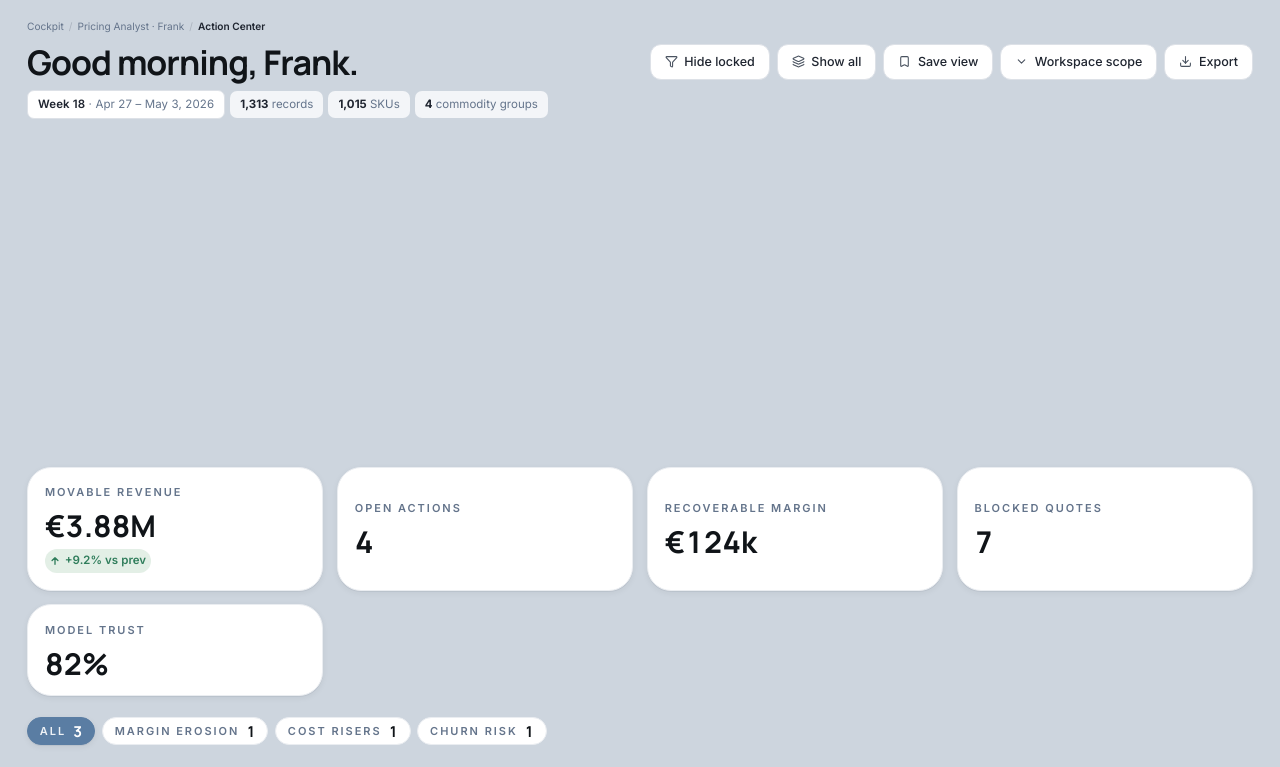
TodaySummaryStrip › opens TrustDrawer when model_trust tile is clicked inside the page
The image size is (1280, 767).
Step 1. Click the button with test id "summary-tile-model_trust" → (95,630), box [27,604,323,696]
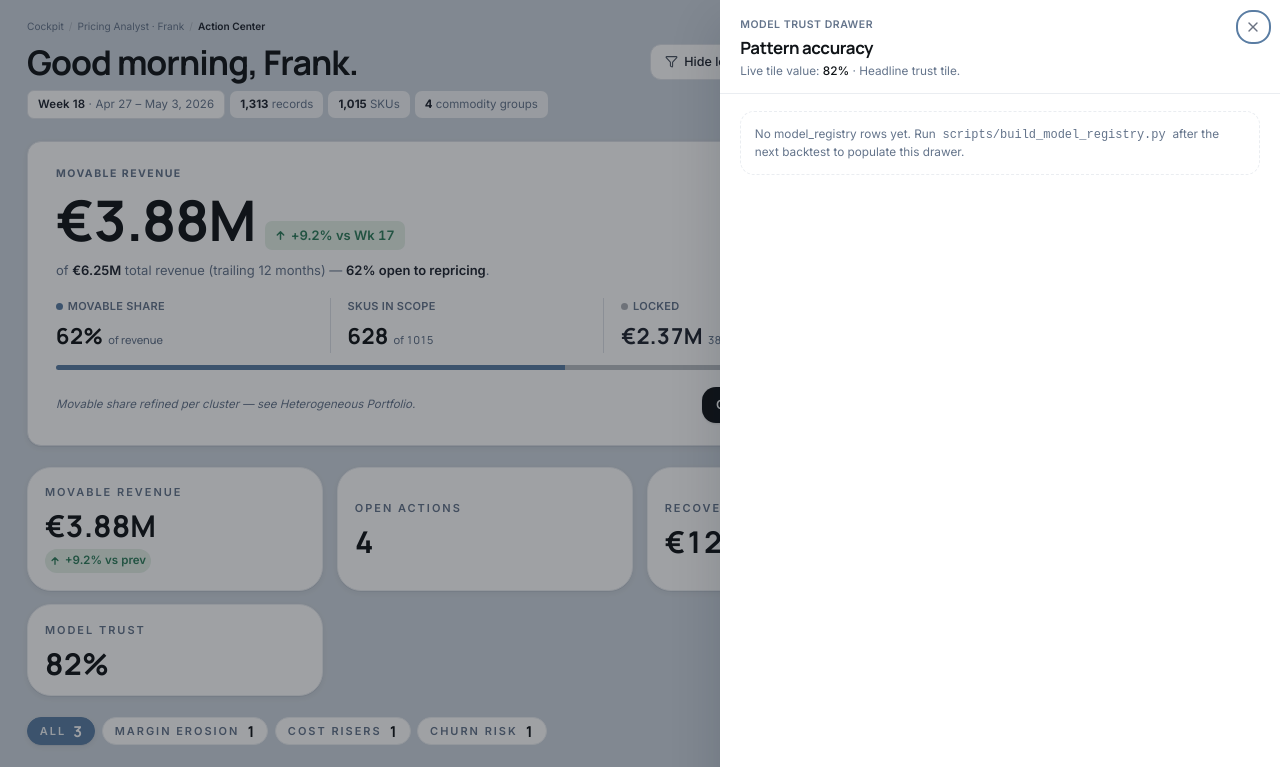
expect the text "Model trust drawer" is shown: met, box [740,18,873,31]
